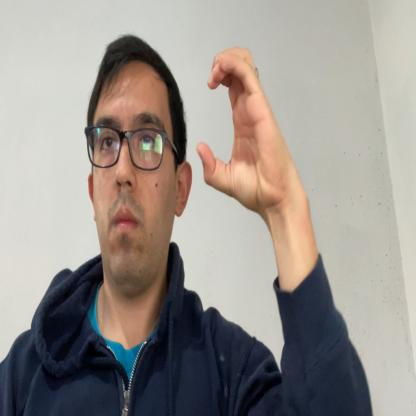C: (197, 46, 284, 206)
